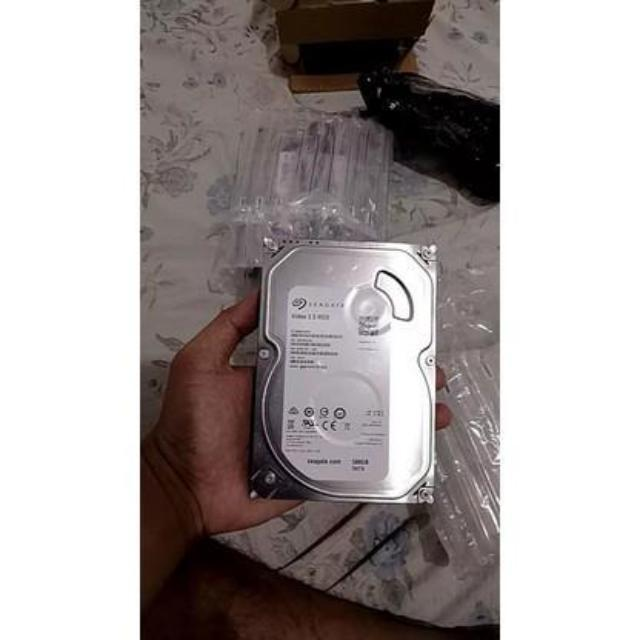DISK: (230, 230, 447, 516)
